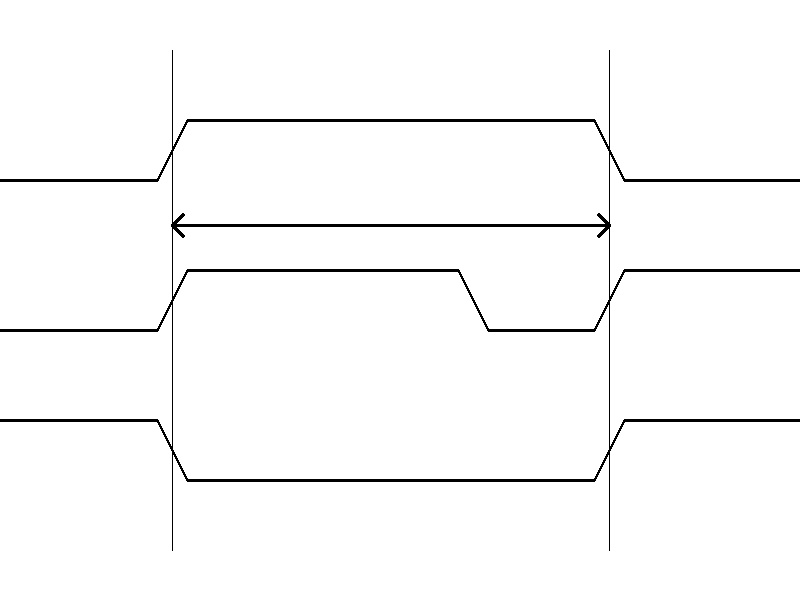double_arrow: (172, 210, 609, 240)
